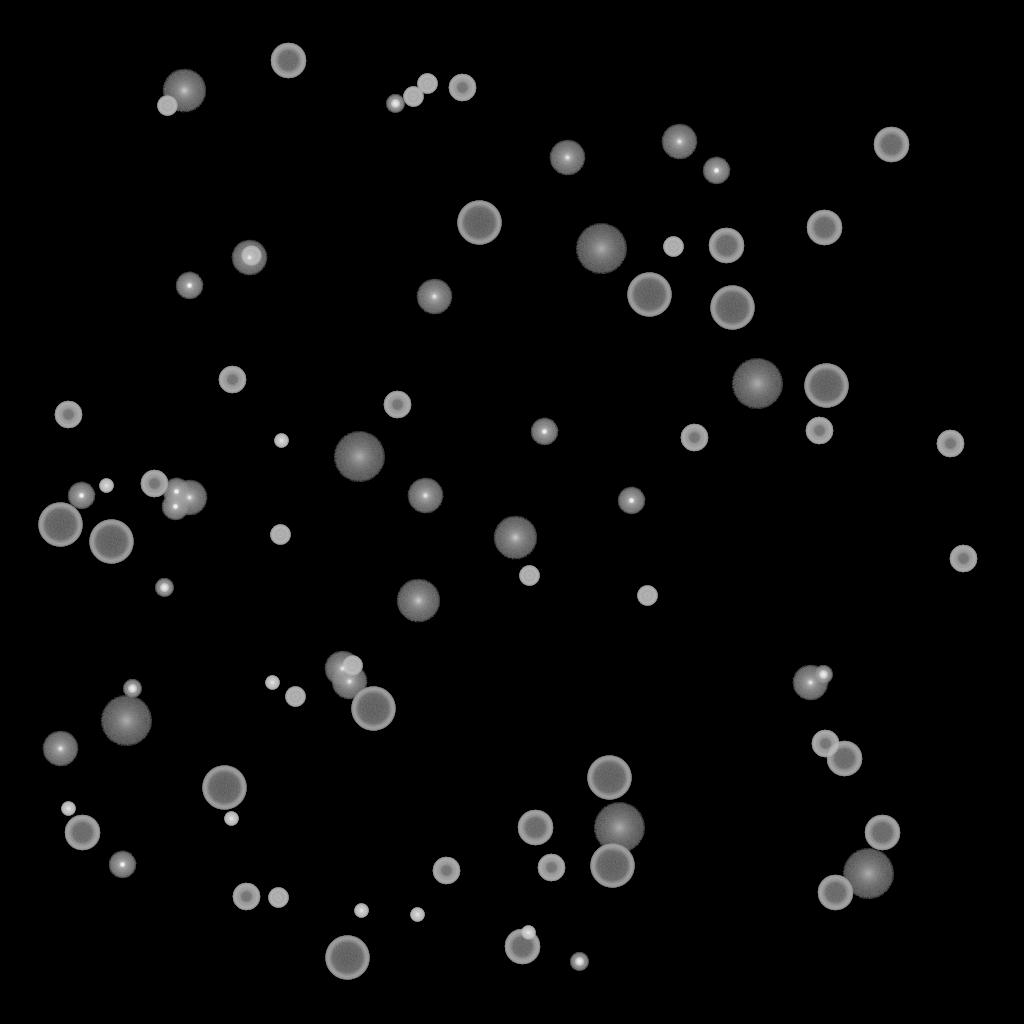depth:-10: (161, 493, 189, 521), (530, 418, 558, 446), (108, 851, 136, 879), (67, 482, 95, 510), (175, 272, 203, 300), (617, 487, 645, 515), (702, 157, 730, 185), (162, 478, 190, 506)
depth:-20: (570, 953, 588, 971), (814, 666, 832, 684), (155, 579, 173, 597), (386, 95, 404, 113), (123, 680, 141, 698)
depth:-30: (265, 676, 279, 690), (354, 904, 368, 918), (61, 802, 75, 816), (224, 812, 238, 826), (410, 908, 424, 922), (274, 434, 288, 448), (99, 479, 113, 493), (521, 926, 535, 940)
depth:-40: (637, 586, 657, 606), (268, 888, 288, 908), (403, 87, 423, 107), (270, 525, 290, 545), (519, 566, 539, 586), (157, 96, 177, 116), (342, 656, 362, 676), (241, 246, 261, 266), (285, 687, 305, 707), (663, 237, 683, 257), (417, 74, 437, 94)
depth:-50: (680, 424, 708, 452), (448, 74, 476, 102), (432, 857, 460, 885), (54, 401, 82, 429), (232, 883, 260, 911), (537, 854, 565, 882), (811, 730, 839, 758), (936, 430, 964, 458), (805, 417, 833, 445), (949, 545, 977, 573), (140, 470, 168, 498), (218, 366, 246, 394), (383, 391, 411, 419)
depth:-60: (270, 43, 306, 79), (826, 741, 862, 777), (708, 228, 744, 264), (517, 810, 553, 846), (817, 875, 853, 911), (64, 815, 100, 851), (864, 815, 900, 851), (806, 210, 842, 246), (873, 127, 909, 163), (504, 929, 540, 965)
depth:-70: (590, 844, 634, 888), (804, 364, 848, 408), (351, 687, 395, 731), (202, 766, 246, 810), (710, 286, 754, 330), (89, 520, 133, 564), (587, 756, 631, 800), (325, 936, 369, 980), (627, 273, 671, 317), (38, 503, 82, 547), (457, 201, 501, 245)
depth:0: (407, 478, 443, 514), (331, 664, 367, 700), (42, 731, 78, 767), (792, 665, 828, 701), (171, 480, 207, 516), (416, 279, 452, 315), (231, 240, 267, 276), (549, 140, 585, 176), (324, 651, 360, 687), (661, 124, 697, 160)
depth:10: (162, 69, 206, 113), (396, 579, 440, 623), (493, 516, 537, 560)
depth:20: (842, 849, 894, 899), (100, 696, 152, 746), (593, 803, 645, 853), (333, 432, 385, 482), (575, 224, 627, 274), (731, 359, 783, 409)
